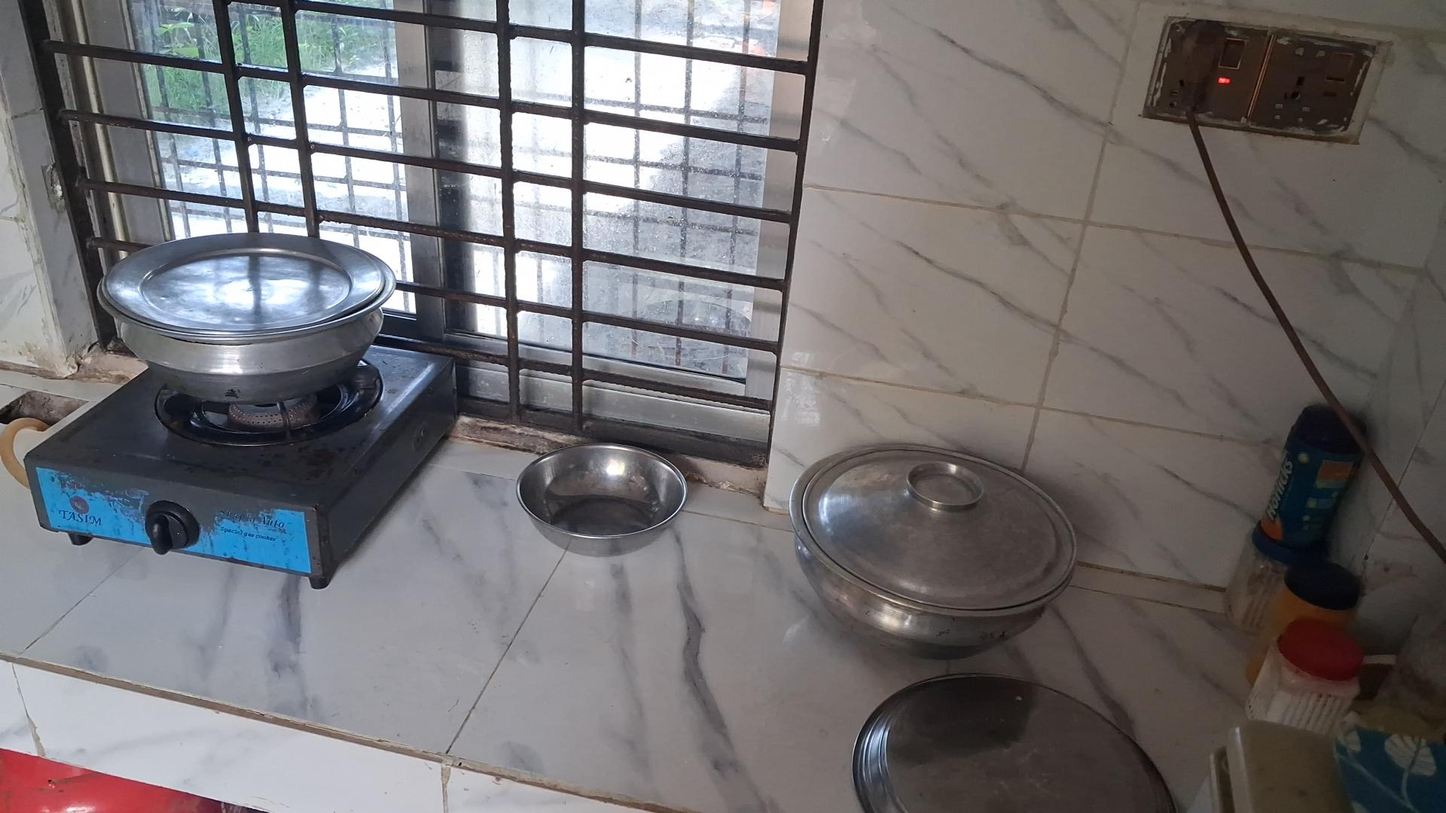Bowl: (516, 443, 688, 556)
Jar: (1240, 610, 1372, 741), (1261, 400, 1364, 531)
Plate: (854, 684, 1183, 813)
Pot: (789, 443, 1077, 667), (96, 236, 394, 406)
